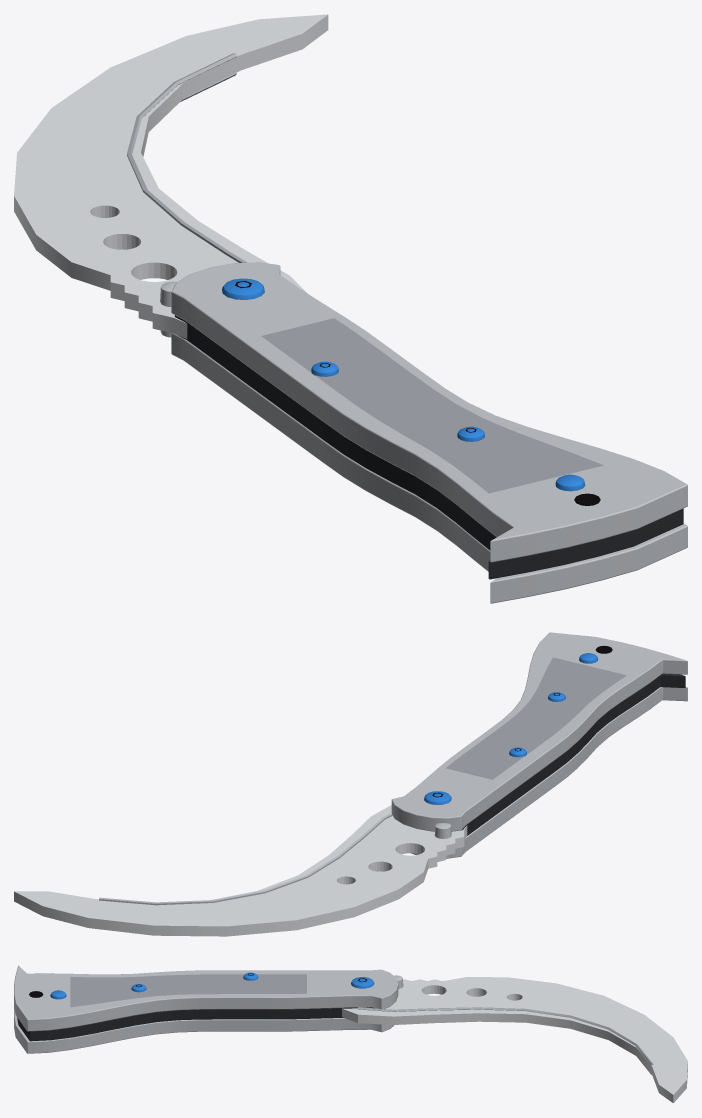
File: reaper.glb
The picture shows the model from 3 angles, top to bottom: view 1: azimuth 30°, elevation 25°; view 2: azimuth 150°, elevation 25°; view 3: azimuth 270°, elevation 25°; orthographic projection. The views are drawn at different scales.
Parts seen in each view (by area): view 1: RG_Handle, RG_Blade, RG_BladeTrim; view 2: RG_Handle, RG_Blade, RG_BladeTrim; view 3: RG_Handle, RG_Blade, RG_BladeTrim.
Boxes of the visible parts, x1,y1,x2,y2 form: RG_Handle: (171, 262, 687, 603); RG_Blade: (14, 14, 328, 338); RG_BladeTrim: (127, 53, 247, 337); RG_Handle: (391, 632, 687, 858); RG_Blade: (14, 805, 467, 936); RG_BladeTrim: (99, 813, 451, 905); RG_Handle: (14, 965, 398, 1053); RG_Blade: (342, 977, 687, 1103); RG_BladeTrim: (358, 975, 653, 1074).
Bounding box in the file's own units: 0.125 × 0.0206 × 0.3014.
